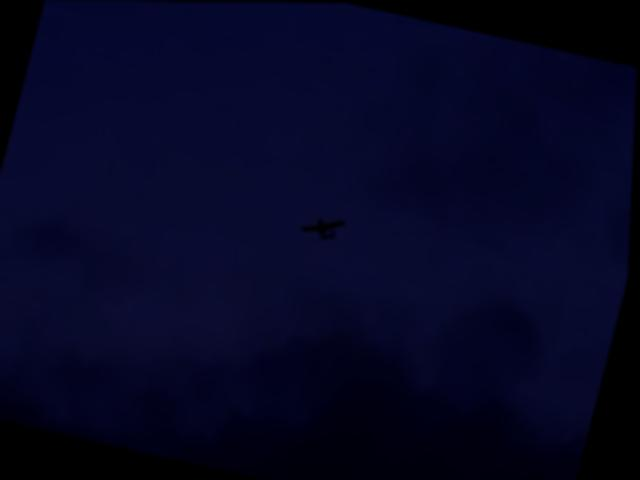uav: (301, 208, 350, 245)
